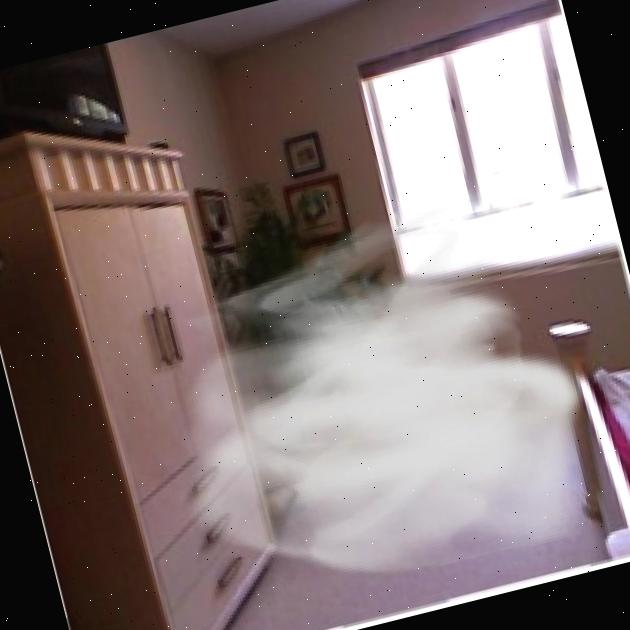smoke: (117, 172, 621, 630)
